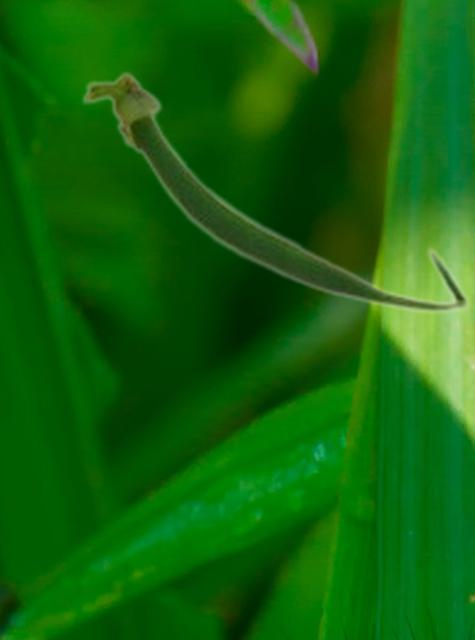french_bean: (79, 68, 471, 315)
